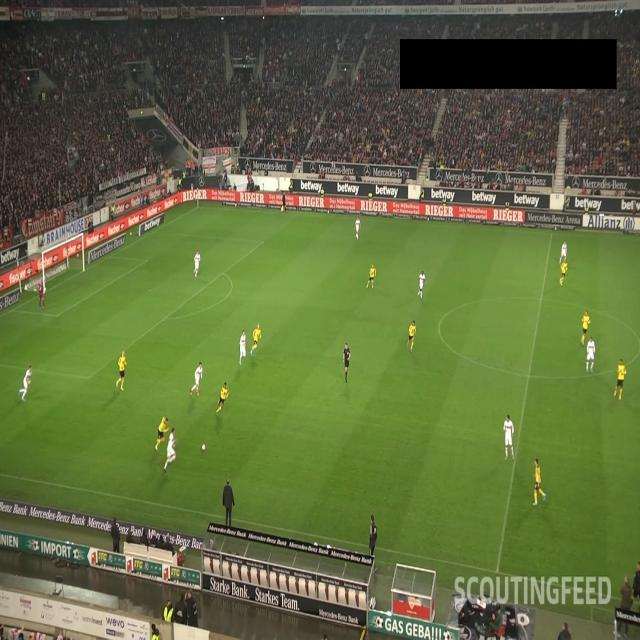ball: (201, 442, 206, 452)
